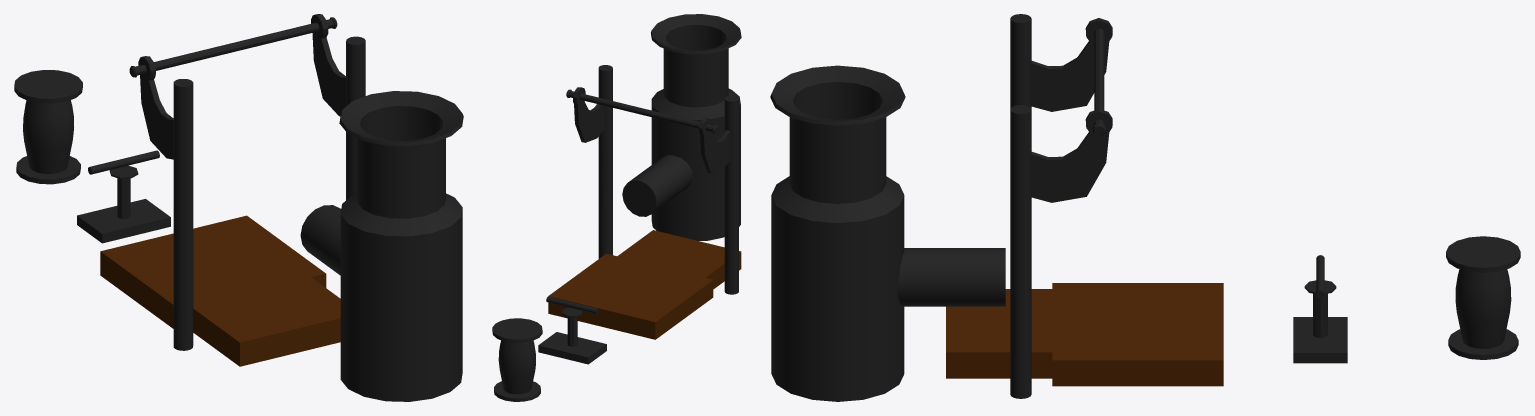
File: PRAXINOSCOPE MOTOR.fbx
The picture shows the model from 3 angles, left to right: view 1: azimuth 30°, elevation 25°; view 2: azimuth 150°, elevation 25°; view 3: azimuth 270°, elevation 25°; orthographic projection. The views are drawn at different scales.
Parts seen in each view (by area): view 1: Cylinder, Cube.001, Cylinder.002, Cylinder.004, Cube.002, Cylinder.001, Cylinder.003; view 2: Cylinder, Cube.001, Cylinder.002, Cylinder.004, Cylinder.001, Cube.002, Cylinder.003; view 3: Cylinder, Cube.001, Cylinder.002, Cylinder.004, Cylinder.001, Cube.002.
Part boxes in pixels (bbox=[...]): Cylinder: bbox=[339, 91, 463, 401]; Cube.001: bbox=[100, 215, 340, 366]; Cylinder.002: bbox=[129, 14, 365, 350]; Cylinder.004: bbox=[14, 70, 82, 184]; Cube.002: bbox=[77, 165, 170, 243]; Cylinder.001: bbox=[300, 205, 341, 275]; Cylinder.003: bbox=[88, 150, 159, 174]; Cylinder: bbox=[651, 14, 741, 240]; Cube.001: bbox=[548, 230, 741, 339]; Cylinder.002: bbox=[566, 65, 738, 294]; Cylinder.004: bbox=[492, 318, 542, 401]; Cylinder.001: bbox=[622, 155, 693, 216]; Cube.002: bbox=[538, 307, 606, 364]; Cylinder.003: bbox=[546, 296, 598, 314]; Cylinder: bbox=[770, 65, 905, 401]; Cube.001: bbox=[946, 283, 1223, 386]; Cylinder.002: bbox=[1010, 14, 1112, 398]; Cylinder.004: bbox=[1446, 236, 1520, 359]; Cylinder.001: bbox=[897, 248, 1005, 306]; Cube.002: bbox=[1293, 280, 1347, 363].
Bounding box in the file's own units: 56.06 × 69.61 × 166.
